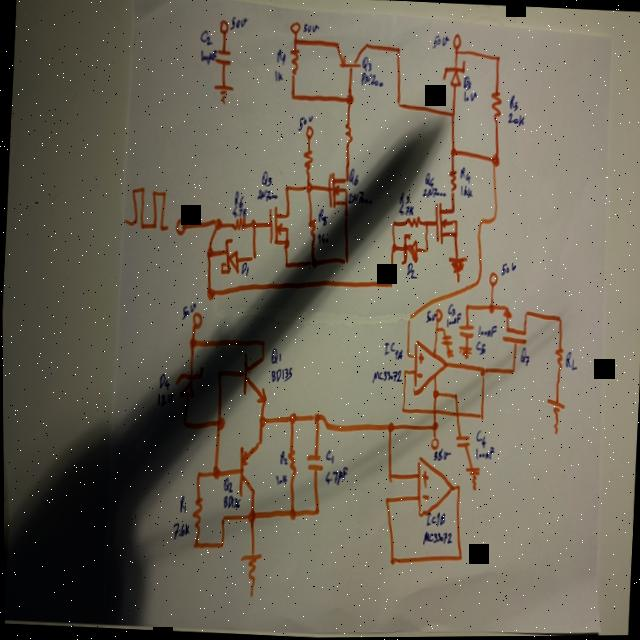capacitor: (305, 452, 324, 474), (214, 48, 231, 67), (457, 323, 474, 341), (454, 433, 471, 450), (439, 333, 452, 348)
crossover: (429, 406, 439, 417), (452, 409, 459, 419)
diode: (173, 364, 203, 400), (219, 237, 240, 276), (400, 232, 421, 265), (442, 58, 465, 88)
ground: (238, 549, 261, 596), (544, 397, 564, 434), (446, 255, 467, 284), (212, 84, 234, 106), (464, 466, 480, 491), (457, 345, 472, 360), (444, 348, 455, 359)
junction: (214, 416, 226, 433), (310, 410, 322, 426), (474, 270, 484, 288), (246, 508, 256, 525), (490, 153, 500, 168), (205, 287, 215, 301), (385, 420, 395, 434), (187, 336, 197, 350), (257, 414, 266, 429), (213, 216, 222, 231), (287, 507, 297, 520), (205, 245, 214, 259), (249, 218, 258, 232), (304, 181, 313, 195), (486, 302, 495, 316), (345, 92, 354, 106), (287, 411, 296, 425), (211, 465, 220, 479), (404, 310, 413, 324), (429, 421, 439, 433), (309, 257, 318, 270), (477, 366, 486, 378), (312, 505, 321, 517), (218, 514, 226, 526), (342, 254, 349, 267), (431, 388, 438, 401), (388, 554, 395, 566), (449, 146, 456, 158), (215, 367, 222, 379), (282, 259, 289, 271), (386, 471, 393, 483), (395, 44, 402, 56), (477, 217, 484, 229), (258, 338, 266, 348), (283, 183, 290, 193), (451, 392, 458, 402), (449, 110, 456, 120), (555, 314, 562, 324), (395, 99, 402, 109), (387, 280, 394, 290), (218, 539, 225, 549), (250, 253, 257, 263), (289, 91, 296, 101), (194, 470, 201, 480), (181, 418, 188, 428), (383, 495, 390, 505), (192, 539, 199, 549), (494, 53, 501, 63), (399, 405, 406, 415), (456, 553, 463, 563), (390, 243, 397, 253), (463, 302, 470, 312), (477, 411, 484, 421), (491, 214, 498, 224), (423, 219, 429, 229), (509, 367, 515, 376), (293, 38, 299, 46), (423, 246, 428, 255), (391, 220, 395, 228), (405, 351, 409, 359), (456, 484, 460, 492), (454, 50, 459, 56), (434, 326, 438, 333), (403, 369, 407, 376), (441, 327, 445, 333)
resistor: (189, 493, 203, 532), (489, 91, 503, 126), (285, 448, 297, 483), (288, 48, 300, 78), (302, 147, 314, 172), (231, 216, 248, 233), (343, 121, 353, 148), (403, 215, 421, 230), (306, 218, 316, 244), (554, 346, 563, 374), (448, 170, 458, 192)
terminal: (173, 215, 186, 237), (190, 311, 203, 331), (218, 18, 229, 36), (487, 271, 498, 289), (451, 33, 461, 51), (289, 21, 301, 36), (304, 125, 314, 141), (429, 437, 439, 452), (434, 308, 443, 323)
text: (421, 528, 451, 547), (371, 368, 402, 386), (324, 465, 348, 487), (269, 364, 292, 385), (382, 340, 403, 362), (422, 184, 446, 201), (347, 189, 372, 205), (171, 520, 190, 541), (360, 72, 383, 88), (424, 511, 445, 528), (256, 187, 277, 204), (230, 16, 249, 33), (200, 48, 217, 66), (432, 447, 451, 463), (477, 323, 496, 339), (431, 34, 450, 50), (297, 114, 313, 133), (404, 261, 418, 282), (500, 261, 517, 278), (564, 351, 577, 373), (222, 495, 241, 510), (475, 446, 494, 461), (181, 301, 196, 320), (259, 169, 273, 189), (156, 392, 173, 408), (507, 113, 524, 128), (445, 312, 460, 329), (200, 29, 214, 46), (158, 373, 170, 392), (302, 22, 319, 35), (519, 346, 530, 366), (459, 166, 471, 184), (398, 204, 413, 218), (348, 168, 359, 187), (475, 430, 486, 449), (316, 230, 329, 246), (317, 208, 327, 228), (233, 190, 244, 208), (462, 91, 477, 104), (231, 204, 246, 217), (460, 184, 473, 199), (474, 341, 486, 357), (361, 56, 372, 73), (270, 347, 281, 364), (222, 476, 233, 493), (274, 473, 287, 487), (276, 48, 286, 66), (509, 95, 519, 113), (424, 172, 435, 188), (424, 309, 435, 325), (399, 190, 410, 205), (178, 494, 186, 514), (241, 261, 250, 278), (279, 449, 288, 466), (462, 77, 472, 92), (324, 450, 333, 465), (273, 70, 283, 83), (446, 303, 455, 317)
transistor: (239, 350, 268, 405), (237, 439, 262, 499), (499, 303, 529, 349), (432, 201, 458, 246), (334, 40, 368, 73), (266, 204, 290, 249), (325, 170, 349, 210)
